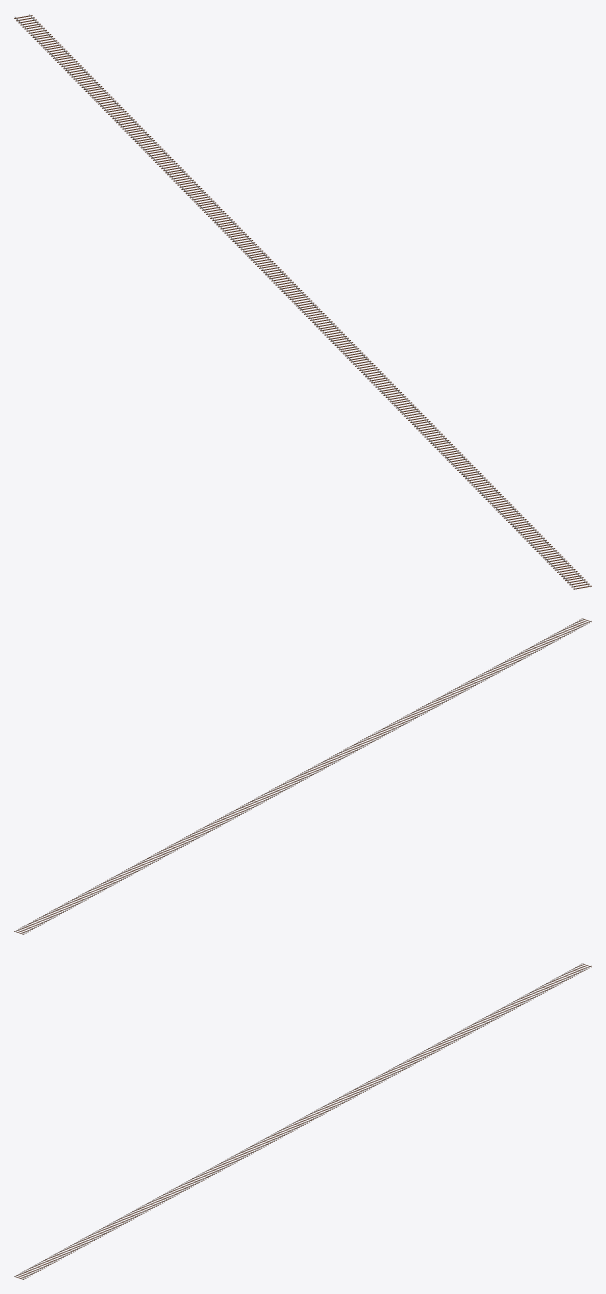
Rendered from ViasTren.fbx.
3 renders of one model, top to bottom at view 1: azimuth 30°, elevation 25°; view 2: azimuth 150°, elevation 25°; view 3: azimuth 330°, elevation 25°, orthographic. The views are drawn at different scales.
Parts seen in each view (by area): view 1: RailForward.001; view 2: RailForward.001; view 3: RailForward.001.
Boxes of the visible parts, bbox=[...] form: RailForward.001: bbox=[14, 14, 591, 589]; RailForward.001: bbox=[14, 618, 591, 934]; RailForward.001: bbox=[14, 963, 591, 1279].
Size of the model in its own units: 7750 by 32.63 by 53630.
